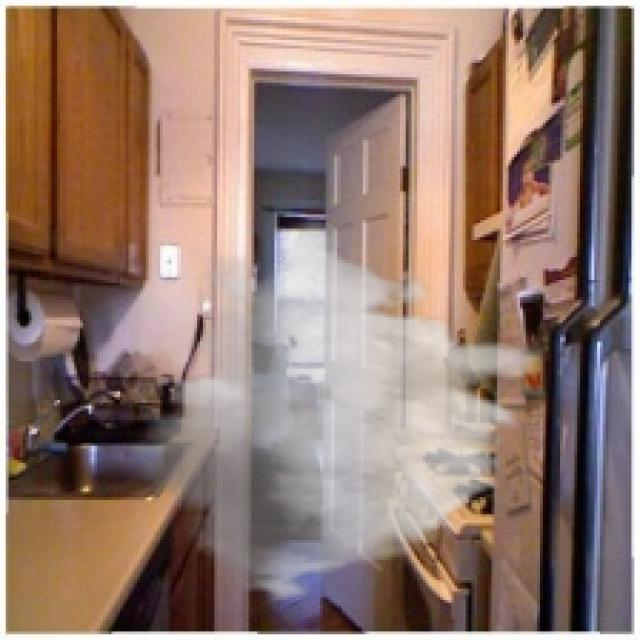Smoke: (120, 217, 546, 606)
